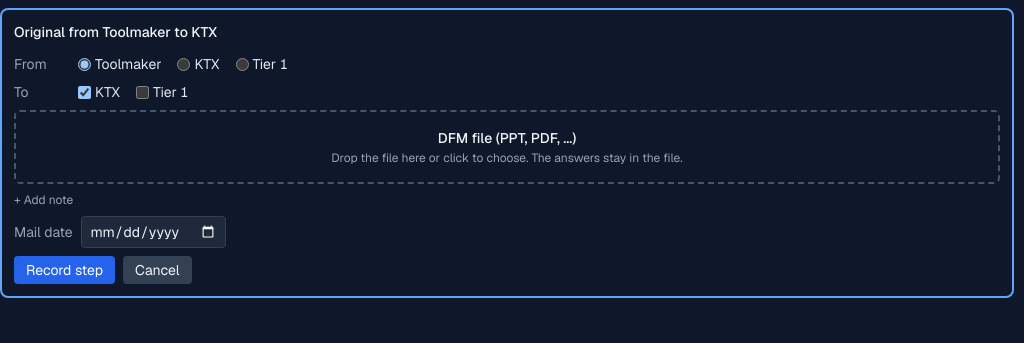
Test case: DfmEntryForm › refuses an original without an addressee
Step 1. Click the checkbox with test id "addressed-ktx" → (84,92), box [78,86,91,98]
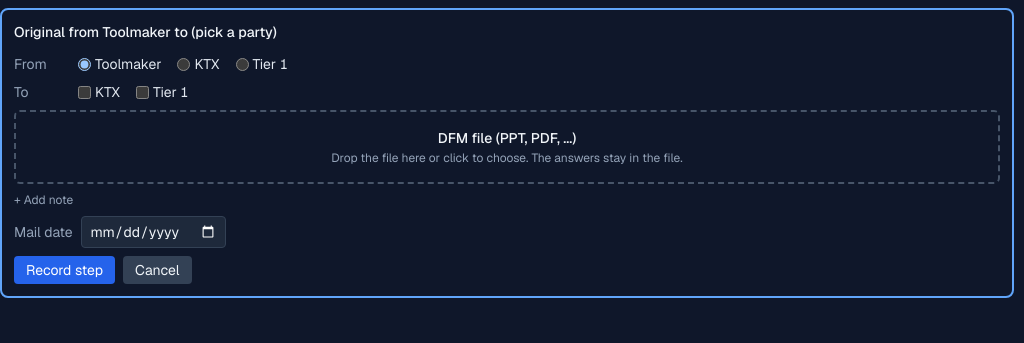
Step 2. Click the button with test id "dfm-submit" → (65,270), box [14,256,115,284]
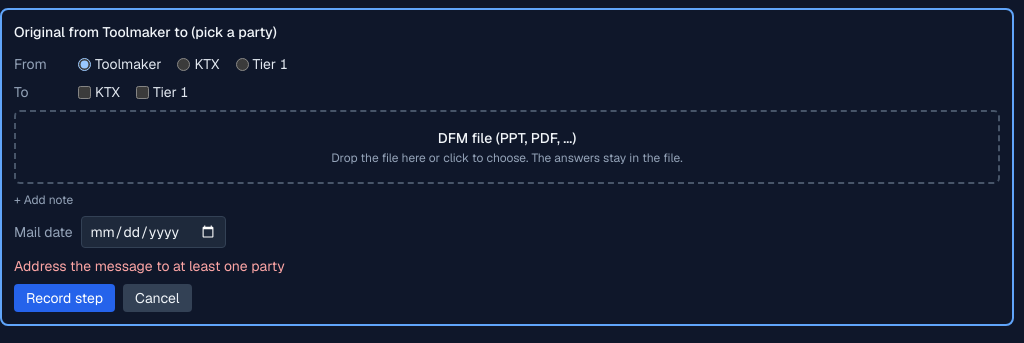
expect the text "Address the message to at least one party" is shown: met, box [14,257,285,275]
